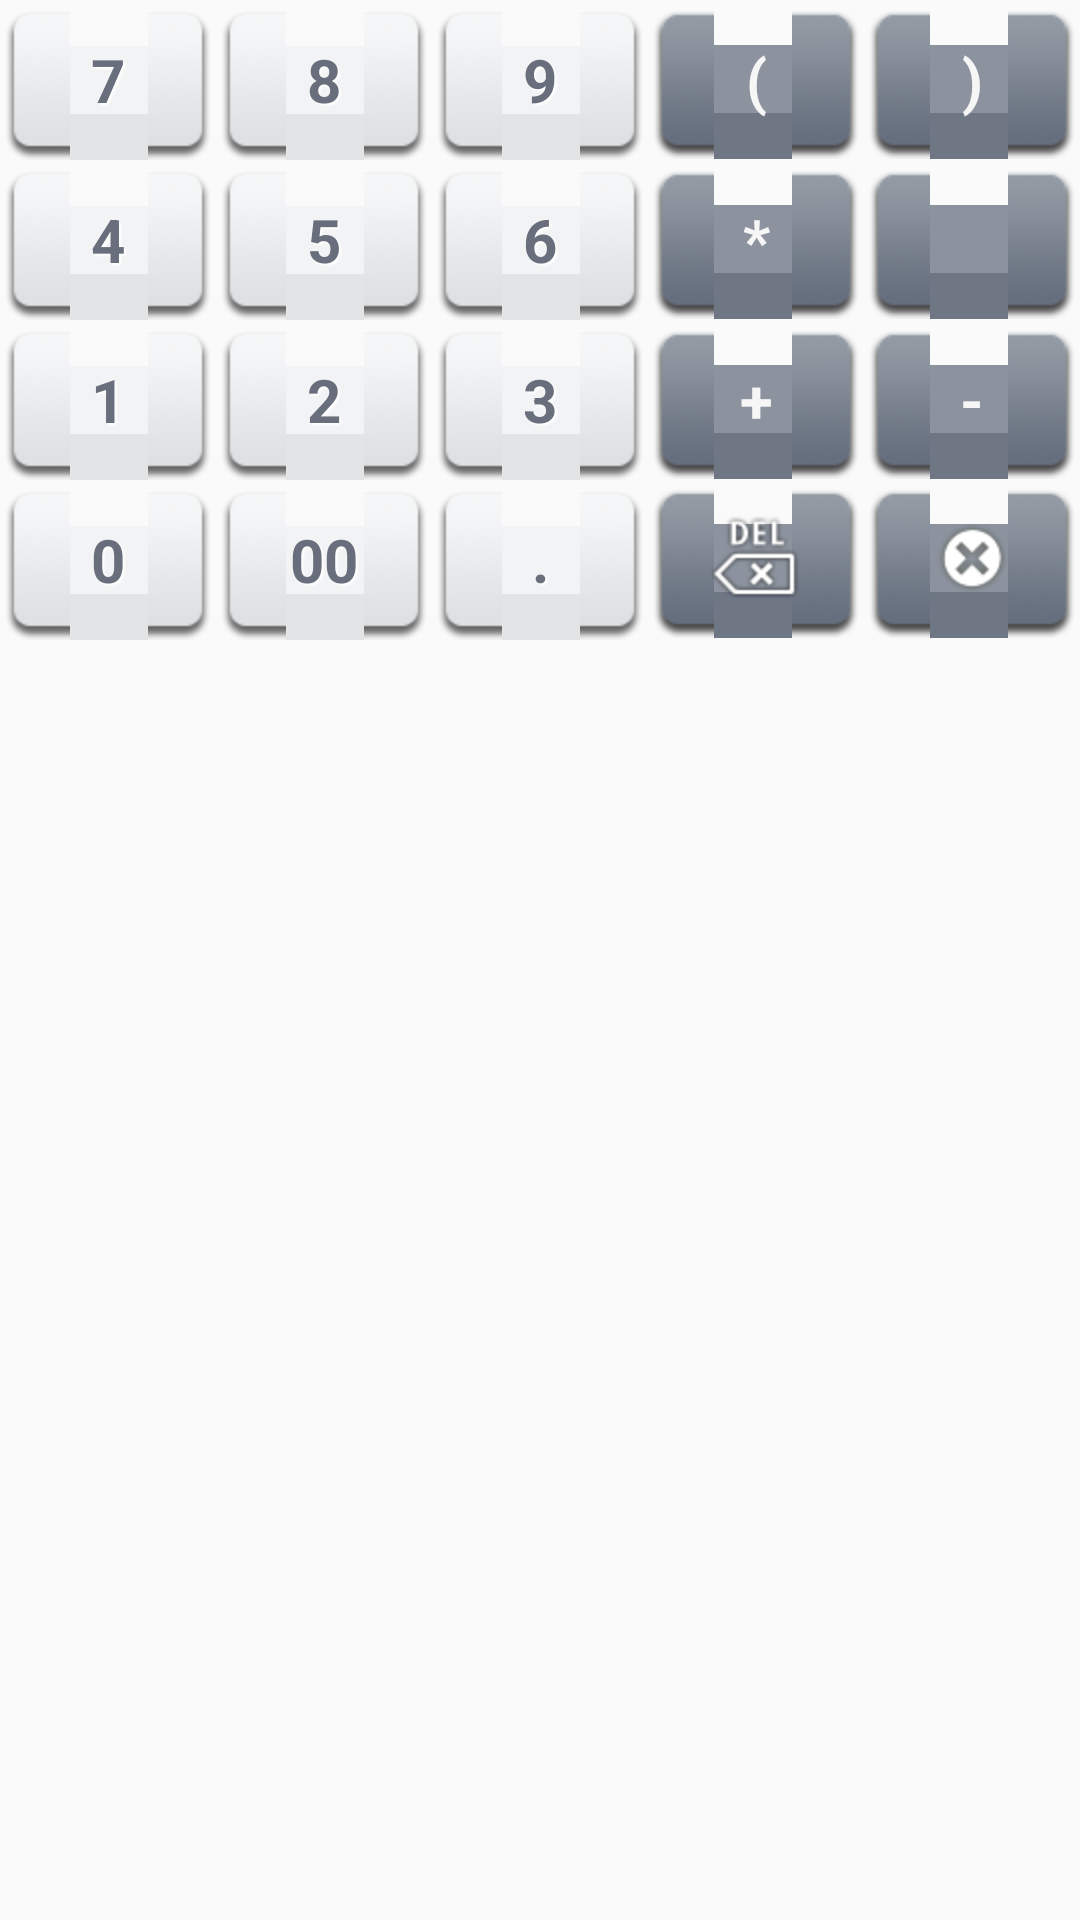

Point at icon controls on the screen. Image size 1080 × 1920, points as (x=x, y=y).
sym keyboard clear: (x=972, y=565)
